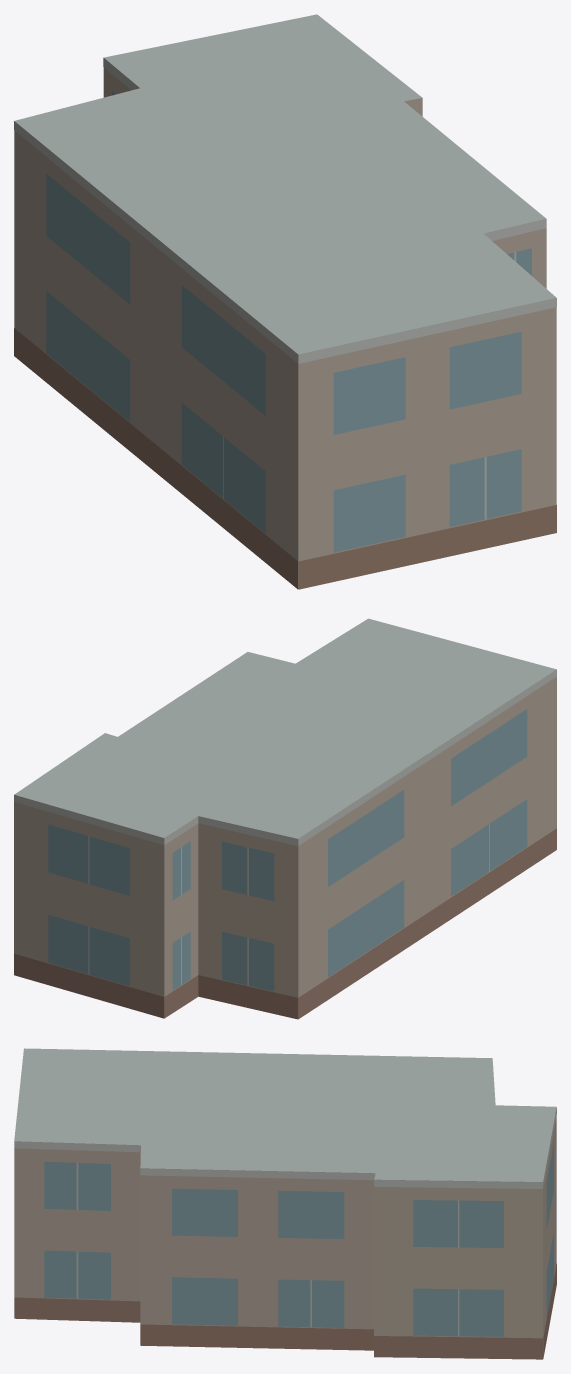
The model's file is survey-upis-32687931.glb.
The picture shows the model from 3 angles, top to bottom: view 1: azimuth 30°, elevation 25°; view 2: azimuth 150°, elevation 25°; view 3: azimuth 270°, elevation 25°; orthographic projection. The views are drawn at different scales.
Parts seen in each view (by area): view 1: survey-upis-32687931.tmp; view 2: survey-upis-32687931.tmp; view 3: survey-upis-32687931.tmp.
Boxes of the visible parts, x1,y1,x2,y2 form: survey-upis-32687931.tmp: (14, 14, 556, 589); survey-upis-32687931.tmp: (14, 618, 556, 1019); survey-upis-32687931.tmp: (14, 1048, 556, 1359).
Size of the model in its own units: 9.86 by 6.1 by 16.92.
